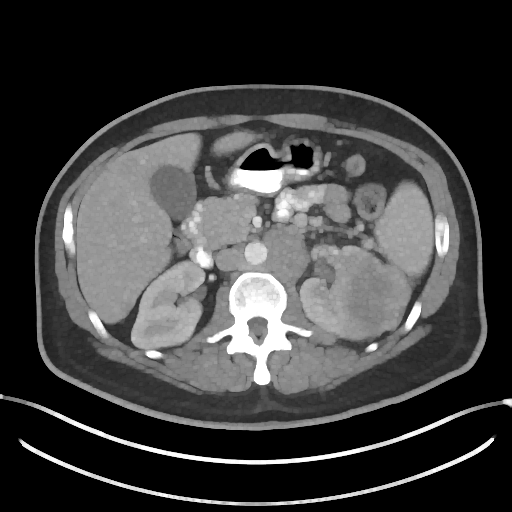Lesion: (332, 249, 417, 343)
